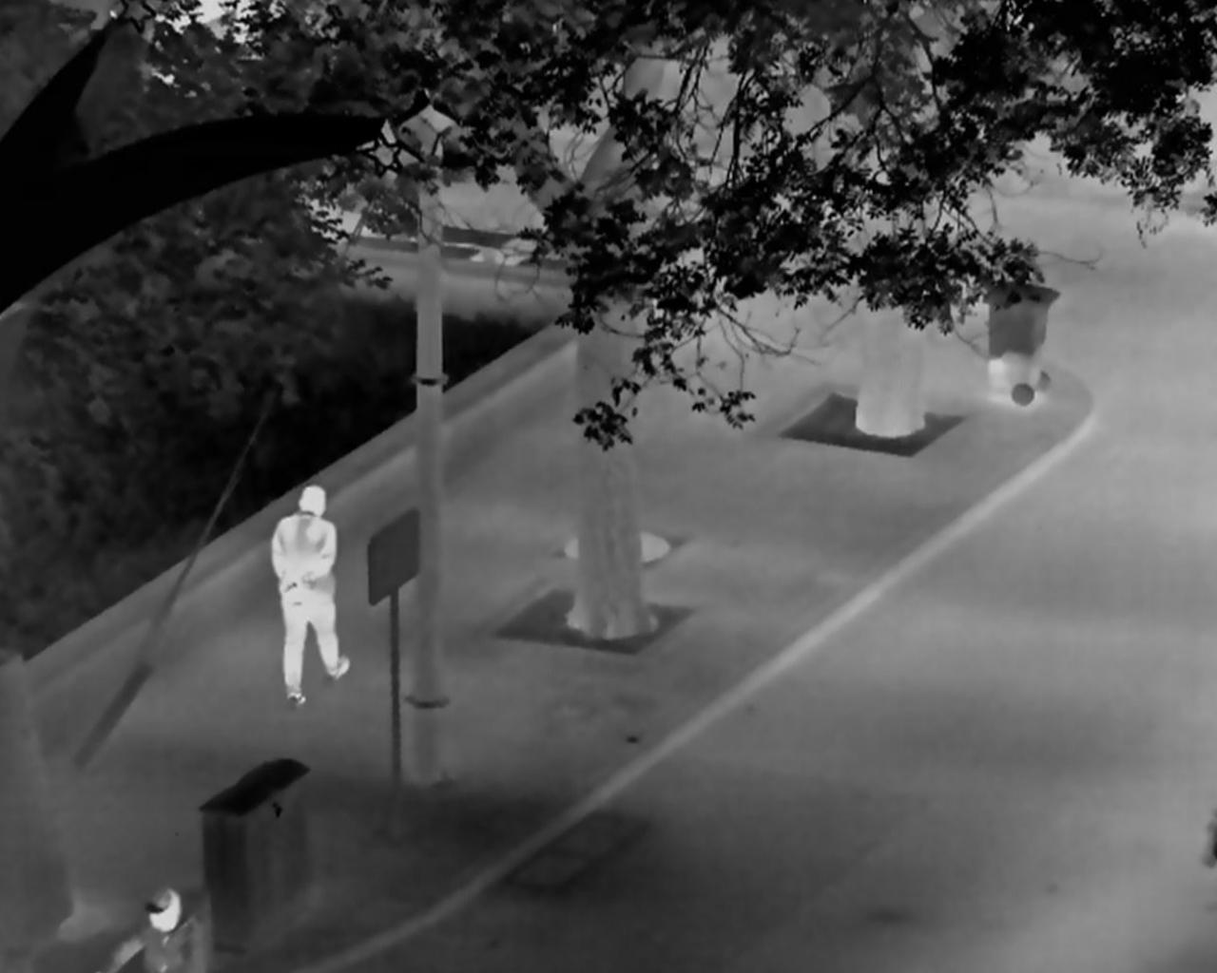person: (269, 484, 352, 708), (106, 886, 206, 973)
